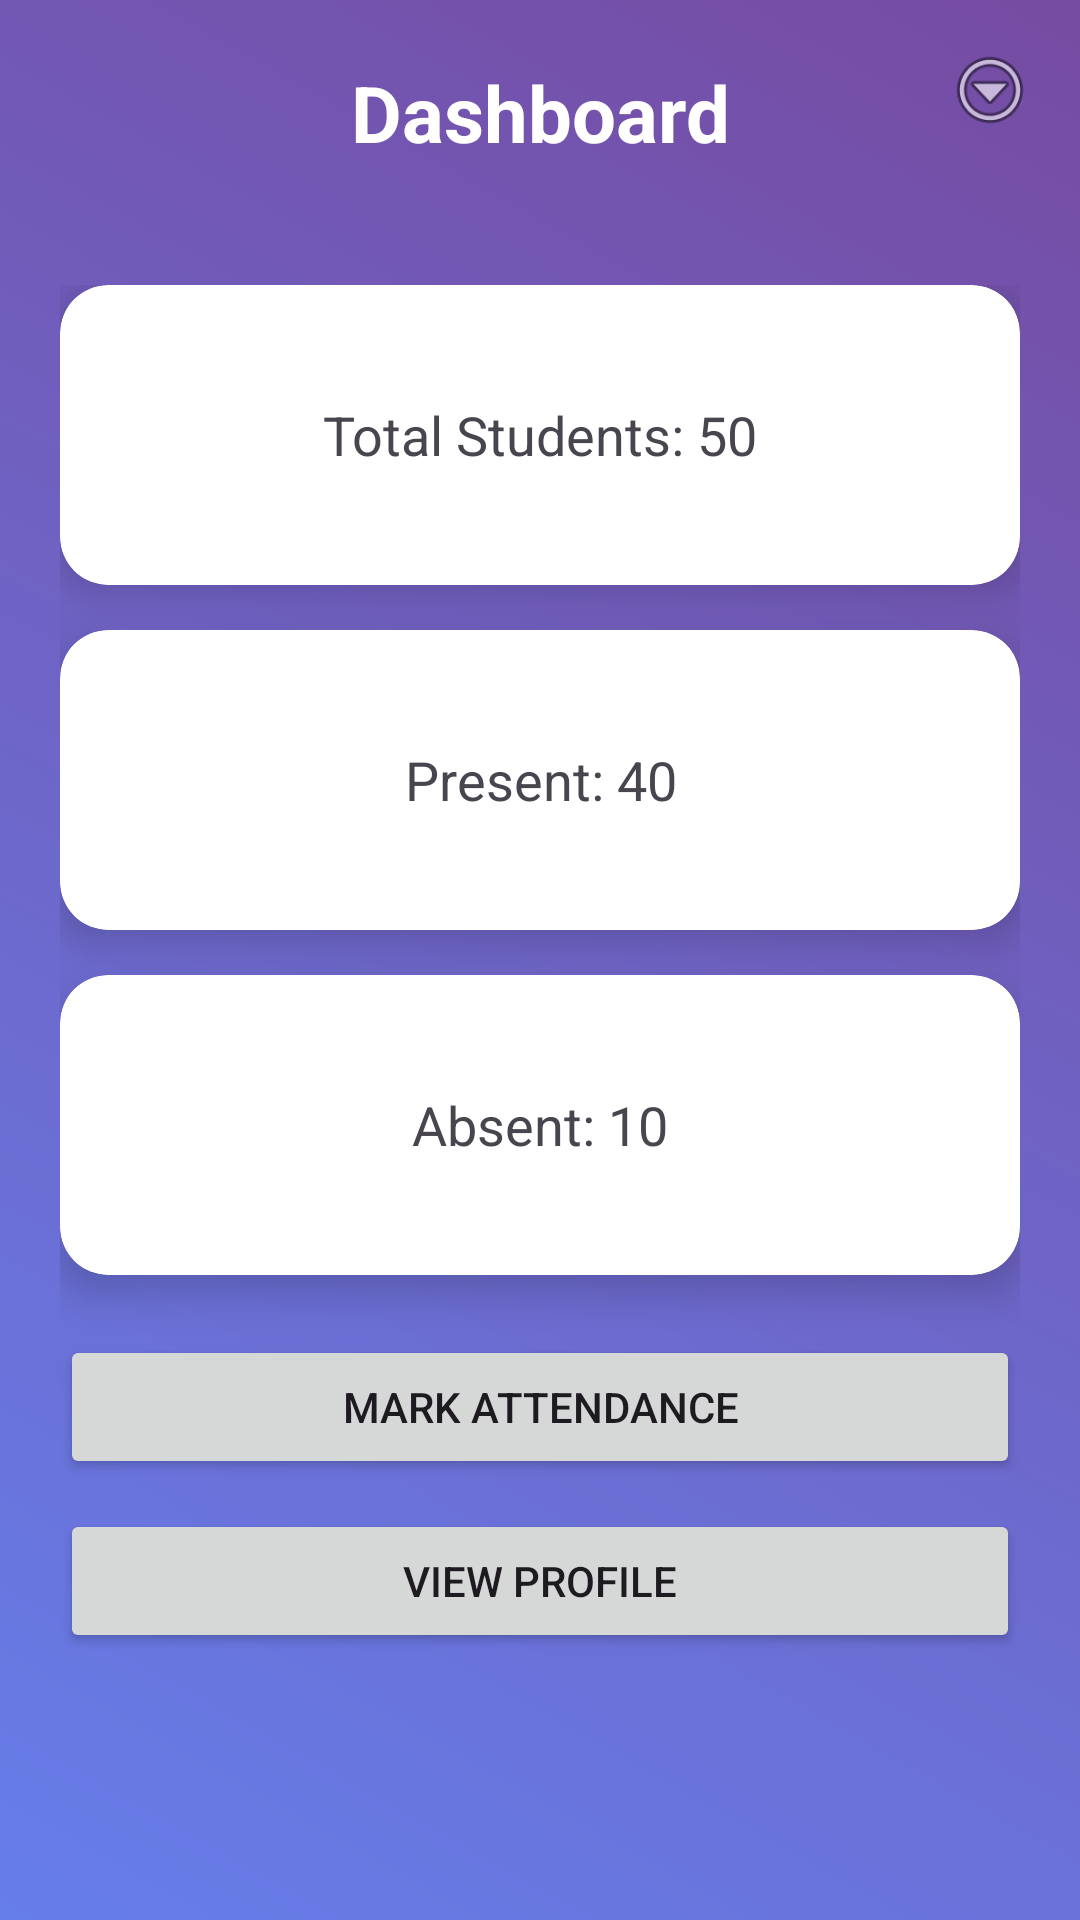

Screen size 1080×1920. Icon name, then its center in pixels as point (x, y):
more: point (990, 90)
